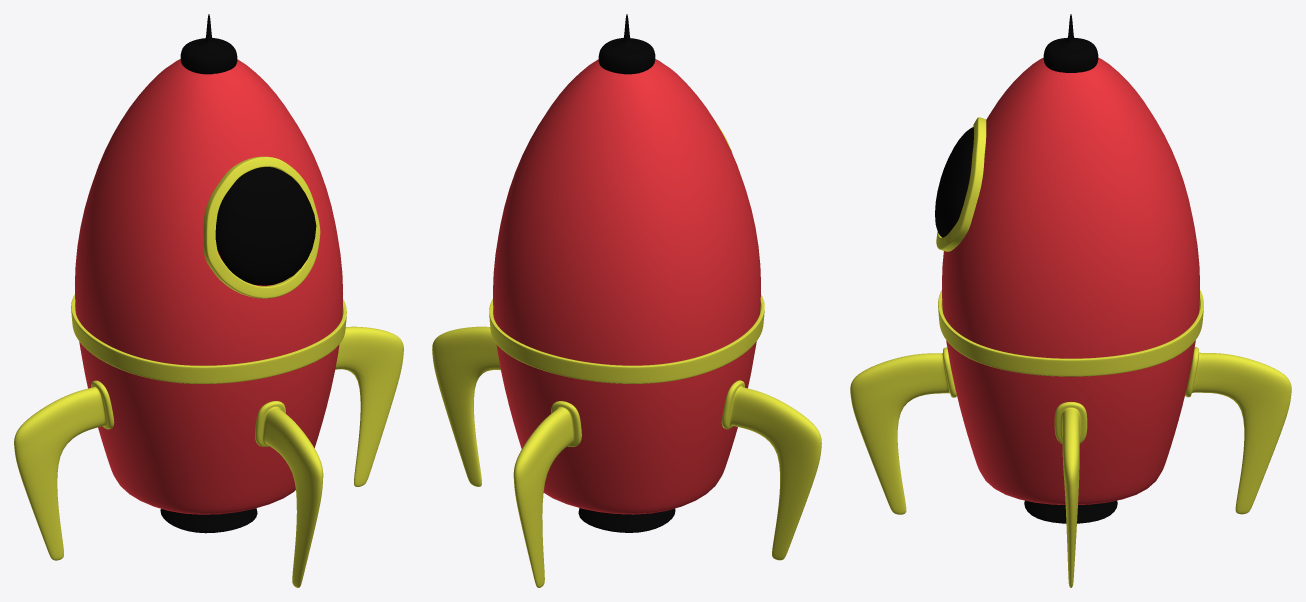
The model's file is Rocket.fbx.
3 renders of one model, left to right at view 1: azimuth 30°, elevation 25°; view 2: azimuth 150°, elevation 25°; view 3: azimuth 270°, elevation 25°, orthographic.
Visible parts, largest first — view 1: Rocket Base, Sphere, Rocket Stand 3, Rocket Stand 1, Circle.001, Rocket Stand 2, Circle, Rocket Top Point, Rocket Engine; view 2: Rocket Base, Rocket Stand 3, Rocket Stand 1, Circle.001, Rocket Stand 4, Rocket Top Point, Rocket Engine; view 3: Rocket Base, Rocket Stand 2, Rocket Stand 4, Circle.001, Rocket Stand 1, Sphere, Circle, Rocket Top Point, Rocket Engine.
Part boxes in pixels (x1=…): Rocket Base: x1=75, y1=59, x2=342, y2=514; Sphere: x1=215, y1=167, x2=316, y2=285; Rocket Stand 3: x1=14, y1=380, x2=114, y2=560; Rocket Stand 1: x1=335, y1=326, x2=403, y2=486; Circle.001: x1=71, y1=294, x2=346, y2=383; Rocket Stand 2: x1=255, y1=401, x2=323, y2=587; Circle: x1=203, y1=156, x2=320, y2=298; Rocket Top Point: x1=180, y1=14, x2=237, y2=74; Rocket Engine: x1=160, y1=508, x2=257, y2=533; Rocket Base: x1=493, y1=59, x2=760, y2=514; Rocket Stand 3: x1=721, y1=380, x2=821, y2=560; Rocket Stand 1: x1=432, y1=326, x2=500, y2=486; Circle.001: x1=489, y1=294, x2=764, y2=383; Rocket Stand 4: x1=513, y1=401, x2=581, y2=587; Rocket Top Point: x1=598, y1=14, x2=655, y2=74; Rocket Engine: x1=578, y1=508, x2=675, y2=532; Rocket Base: x1=942, y1=57, x2=1199, y2=504; Rocket Stand 2: x1=850, y1=347, x2=956, y2=514; Rocket Stand 4: x1=1185, y1=347, x2=1291, y2=514; Circle.001: x1=938, y1=290, x2=1203, y2=376; Rocket Stand 1: x1=1054, y1=402, x2=1087, y2=587; Sphere: x1=935, y1=127, x2=973, y2=237; Circle: x1=936, y1=117, x2=986, y2=251; Rocket Top Point: x1=1043, y1=14, x2=1098, y2=72; Rocket Engine: x1=1024, y1=500, x2=1117, y2=523.
Size of what is drawn, in the model's own units: 345 by 431 by 345.
